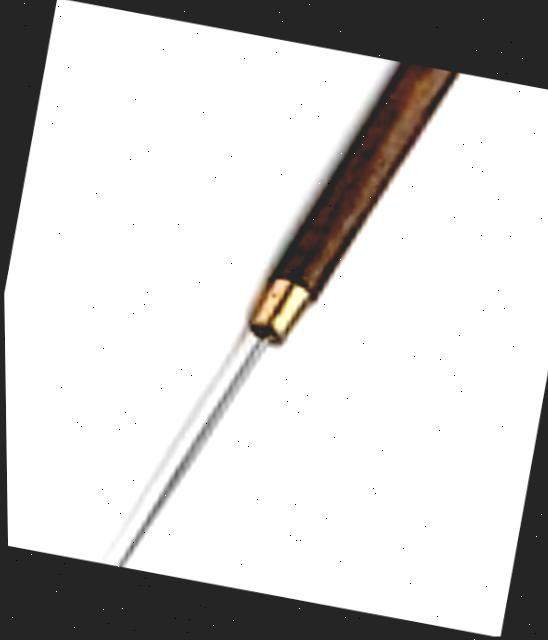ice pick: (99, 25, 476, 616)
